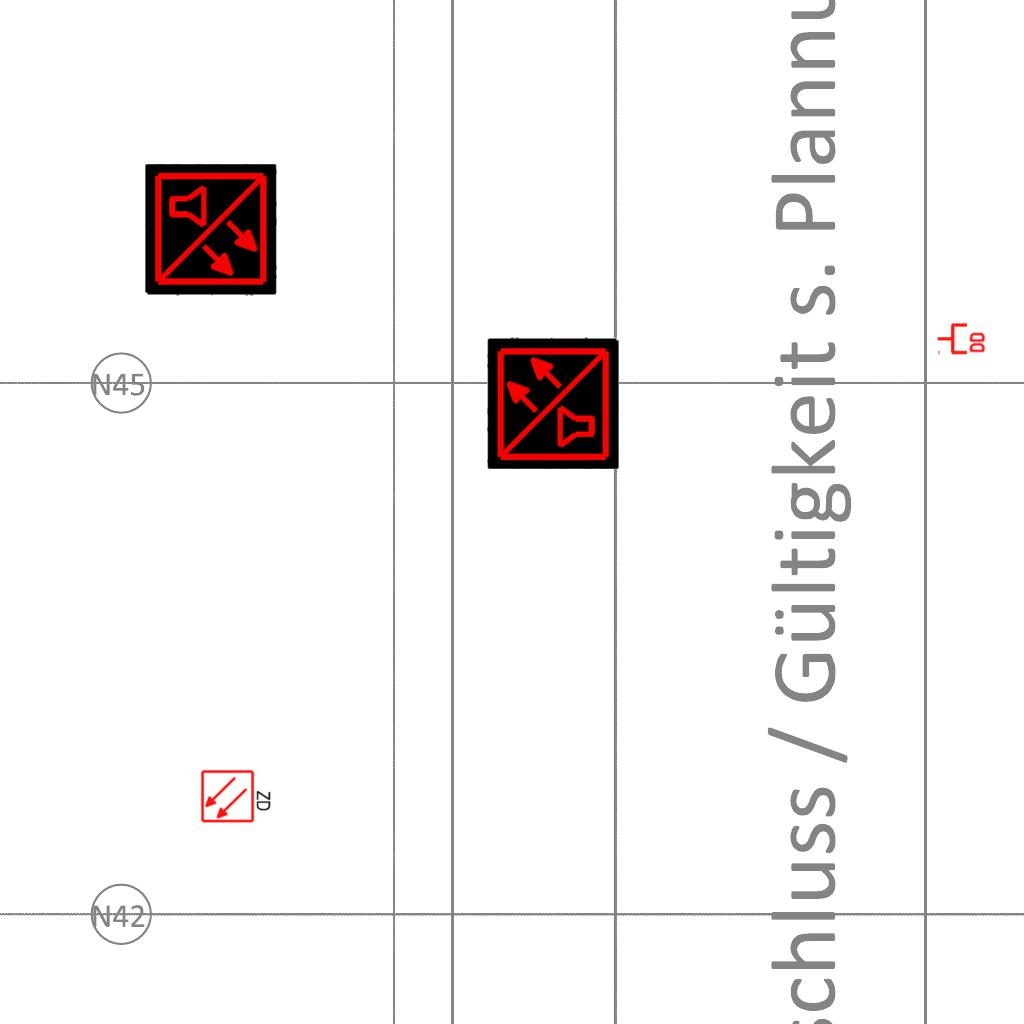Datenanschluss_zweifach: (936, 321, 987, 355)
OKW_Multisensormelder_(Kombination_optischer_Rauch-Kahlenmonoxid_Waerme-Melder): (145, 164, 277, 296), (487, 337, 619, 469)
ZD_Melder_in_Zwischendecke_mit_Revisionsoeffnung_mind_40_x_40_cm: (200, 767, 274, 824)
